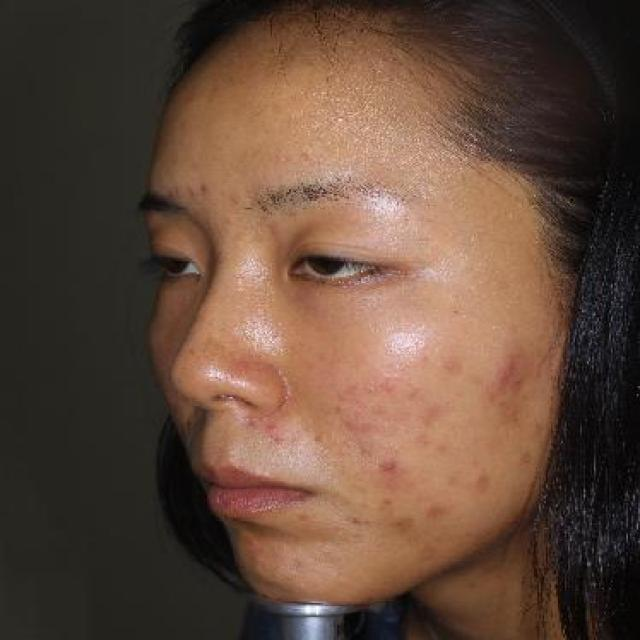papules: (498, 352, 527, 376), (491, 366, 512, 389), (265, 423, 284, 435)
